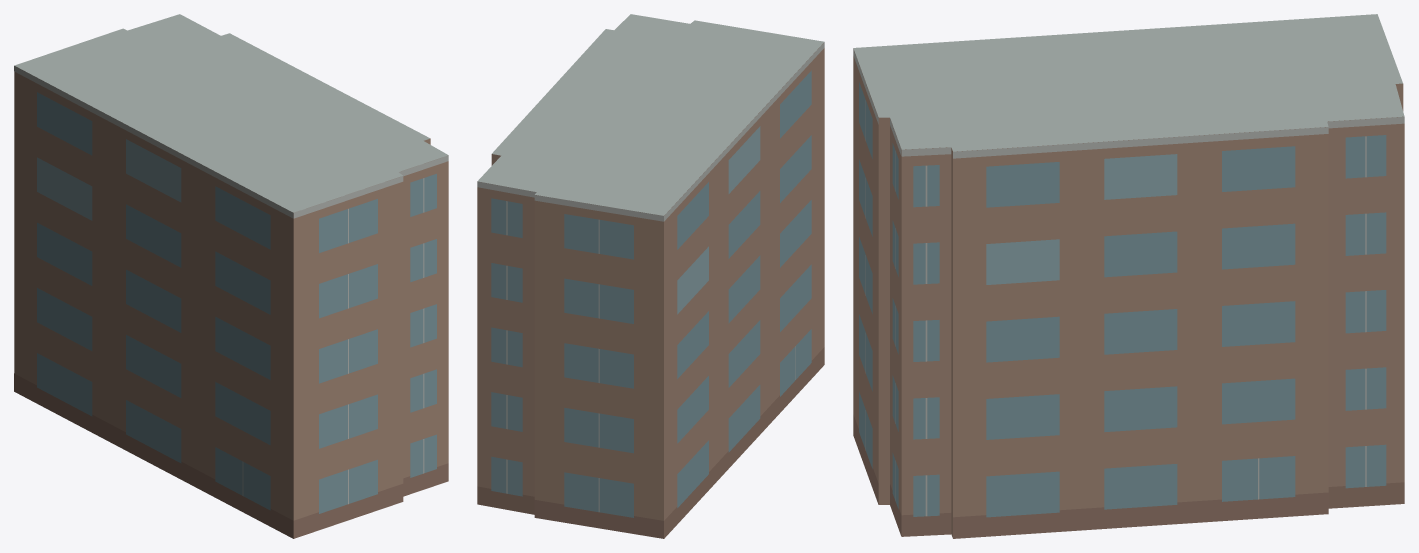
File: survey-upis-32720385.glb
The picture shows the model from 3 angles, left to right: view 1: azimuth 30°, elevation 25°; view 2: azimuth 150°, elevation 25°; view 3: azimuth 270°, elevation 25°; orthographic projection. The views are drawn at different scales.
Visible parts, largest first — view 1: survey-upis-32720385.tmp; view 2: survey-upis-32720385.tmp; view 3: survey-upis-32720385.tmp.
Part boxes in pixels (left/top/right/bottom): survey-upis-32720385.tmp: left=14, top=14, right=448, bottom=538; survey-upis-32720385.tmp: left=477, top=14, right=824, bottom=538; survey-upis-32720385.tmp: left=853, top=14, right=1404, bottom=538.
Size of the model in its own units: 10.3 by 13.5 by 17.43.
